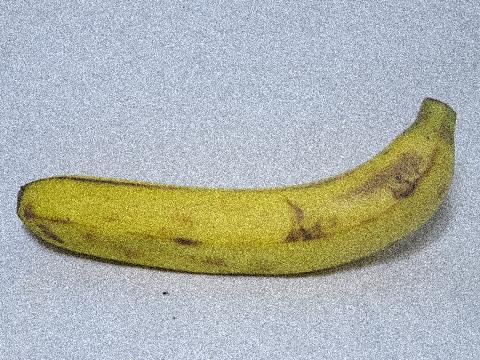ripe: (9, 81, 479, 283)
